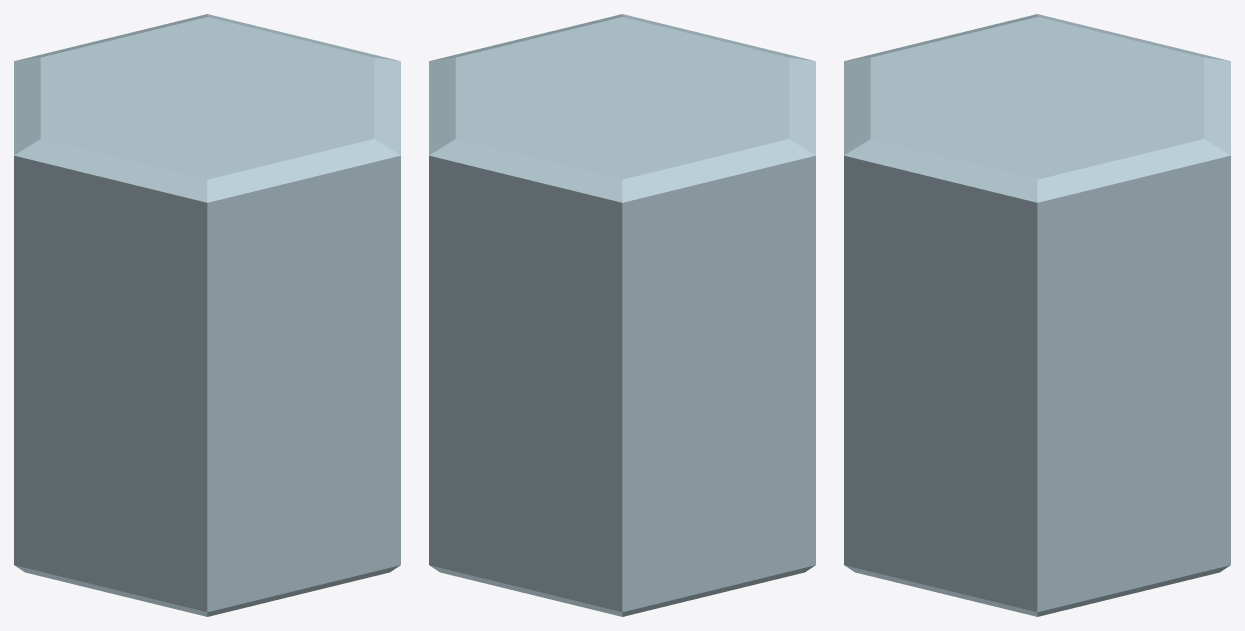
File: HexTile.fbx
3 views of the same model, side by side, from view 1: azimuth 30°, elevation 25°; view 2: azimuth 150°, elevation 25°; view 3: azimuth 270°, elevation 25° (orthographic).
Parts seen in each view (by area): view 1: Hex; view 2: Hex; view 3: Hex.
Boxes of the visible parts, x1,y1,x2,y2 form: Hex: [14, 14, 400, 616]; Hex: [429, 14, 815, 616]; Hex: [844, 14, 1230, 616].
Size of the model in its own units: 10 by 10.61 by 8.66.
